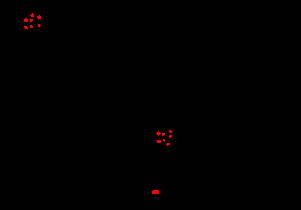Target: (152, 190, 159, 194), (156, 131, 161, 136), (30, 13, 34, 17), (37, 15, 41, 19), (24, 18, 28, 22), (24, 26, 28, 29), (157, 140, 161, 143), (166, 143, 170, 146), (30, 19, 33, 22), (38, 24, 41, 27), (30, 25, 33, 28), (169, 130, 172, 133), (162, 133, 165, 136), (169, 135, 172, 138), (163, 139, 165, 142)
